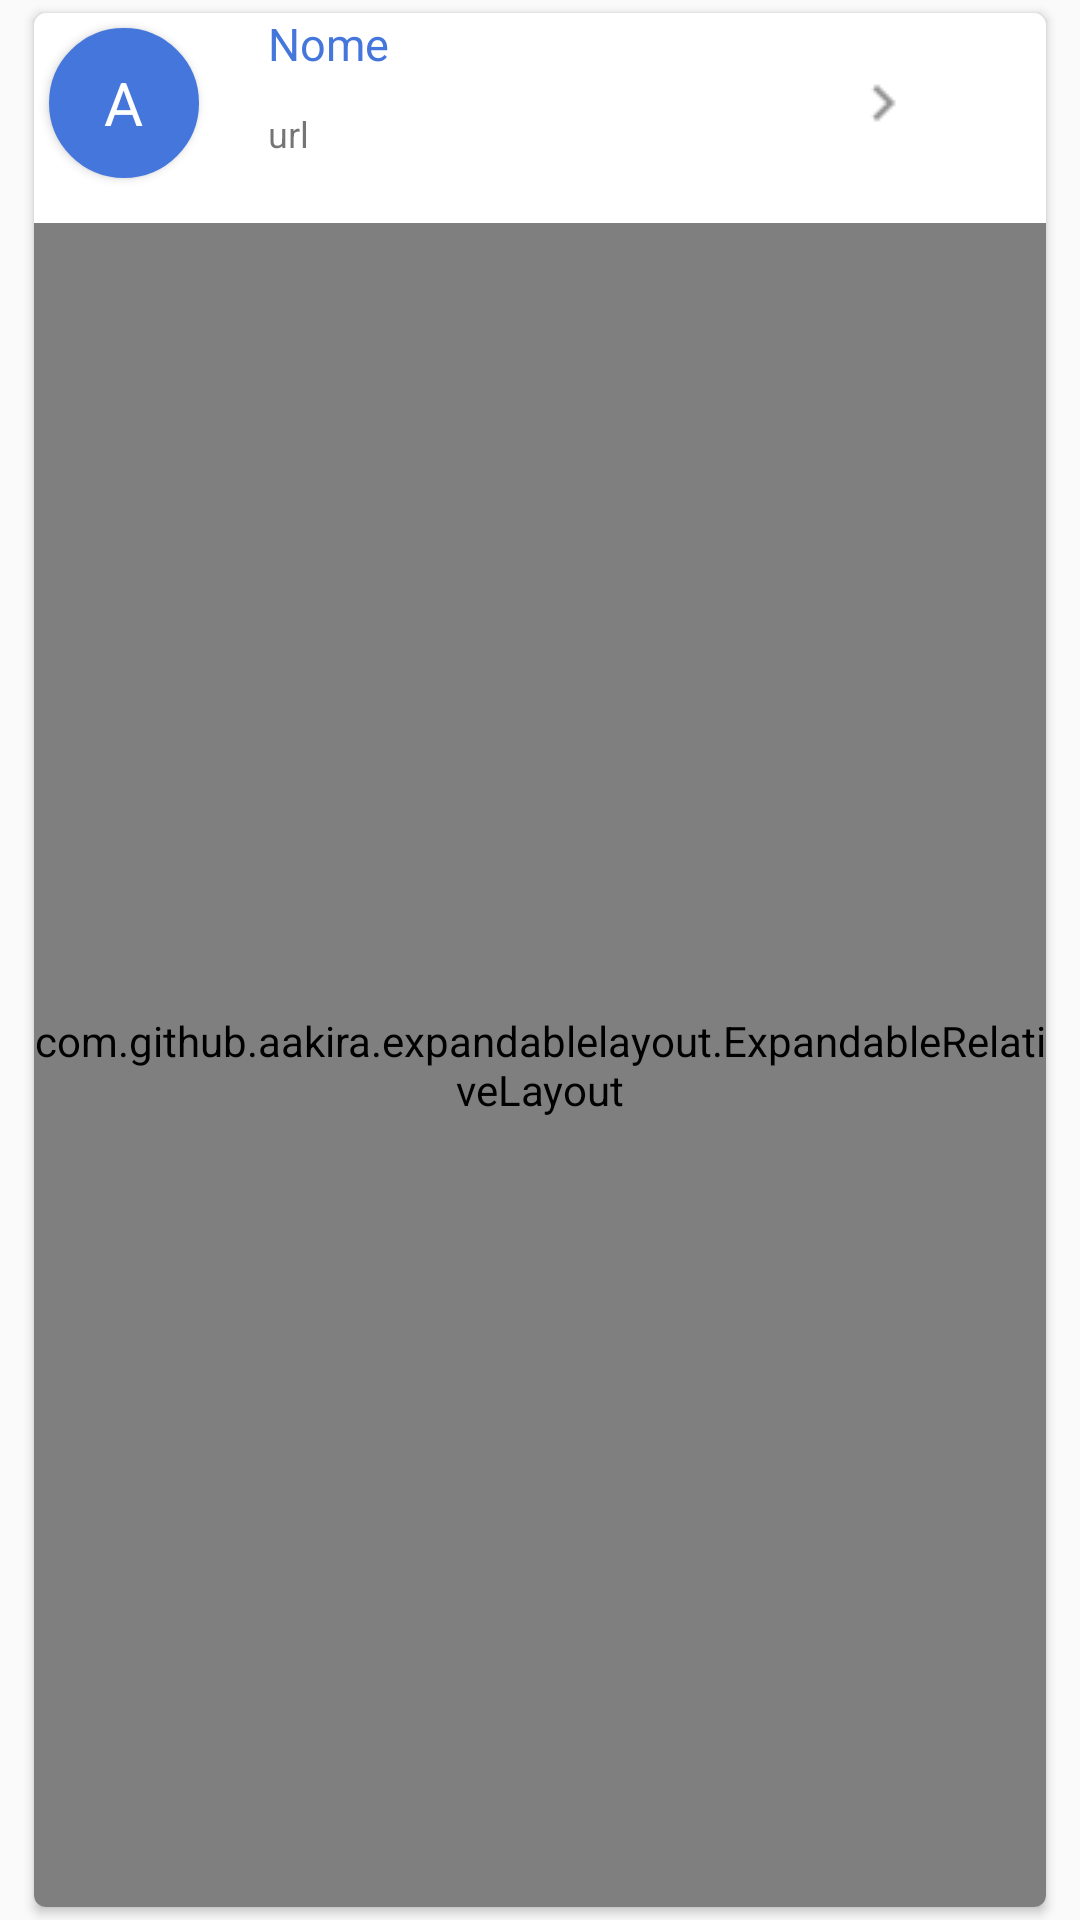

Icon bounding boxes for this 1080px×1920px phone screenshot, format box(x1, y1, x2, y2):
arrow right: box(873, 85, 895, 121)
